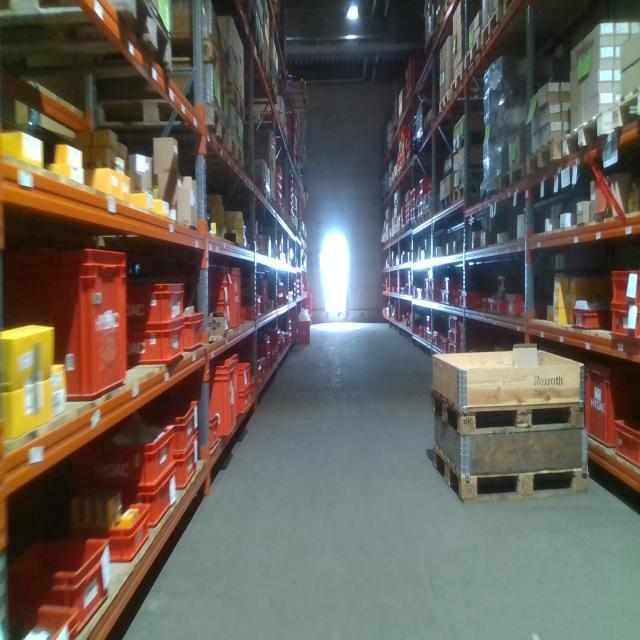pallet: (9, 32, 225, 91), (1, 1, 174, 73), (435, 441, 590, 500), (431, 380, 584, 431), (87, 100, 231, 146), (564, 105, 613, 158), (525, 137, 564, 179), (610, 83, 639, 131), (479, 5, 504, 54), (496, 159, 526, 196), (226, 132, 248, 178), (228, 73, 247, 124), (453, 177, 488, 204), (463, 36, 482, 77), (452, 133, 492, 151), (449, 69, 465, 98), (438, 88, 451, 119), (436, 193, 454, 215), (503, 0, 524, 17), (420, 118, 432, 142), (424, 207, 436, 224), (416, 214, 424, 232), (410, 219, 416, 232), (405, 222, 410, 235)
small_load_carrier: (27, 253, 123, 403), (27, 536, 110, 631), (62, 498, 154, 562), (57, 475, 173, 523), (72, 431, 175, 480), (113, 400, 199, 457), (124, 277, 183, 324), (1, 607, 78, 640), (586, 361, 614, 451), (205, 355, 235, 436), (128, 326, 179, 368), (614, 420, 639, 466), (175, 448, 197, 494), (610, 305, 639, 338), (181, 310, 203, 353), (572, 307, 612, 328), (506, 295, 546, 316), (612, 274, 639, 304), (199, 305, 229, 330), (200, 281, 230, 303), (231, 266, 242, 326), (200, 266, 229, 287), (202, 414, 218, 450), (236, 385, 251, 415), (491, 296, 508, 317), (236, 363, 247, 392), (300, 322, 311, 346), (449, 339, 469, 352), (450, 315, 463, 332), (450, 328, 464, 343), (242, 305, 254, 321)
